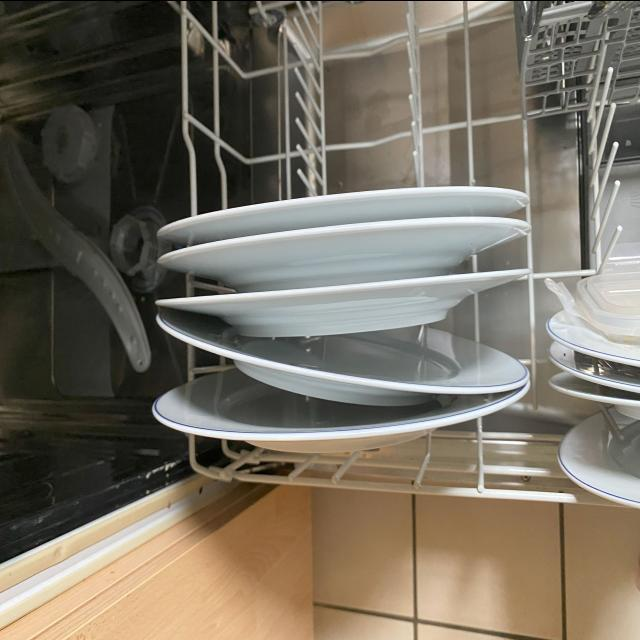empty_slot: (202, 0, 520, 187)
